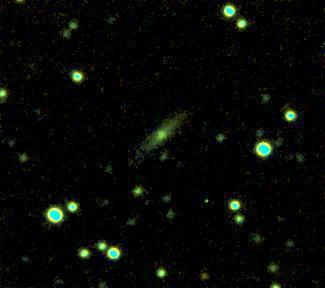star: (195, 259, 225, 288)
